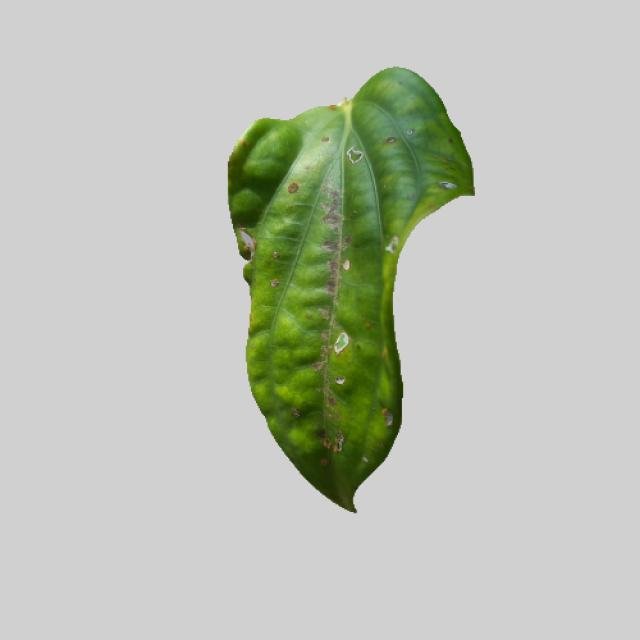yellow-mottle-virus: (213, 77, 482, 511)
